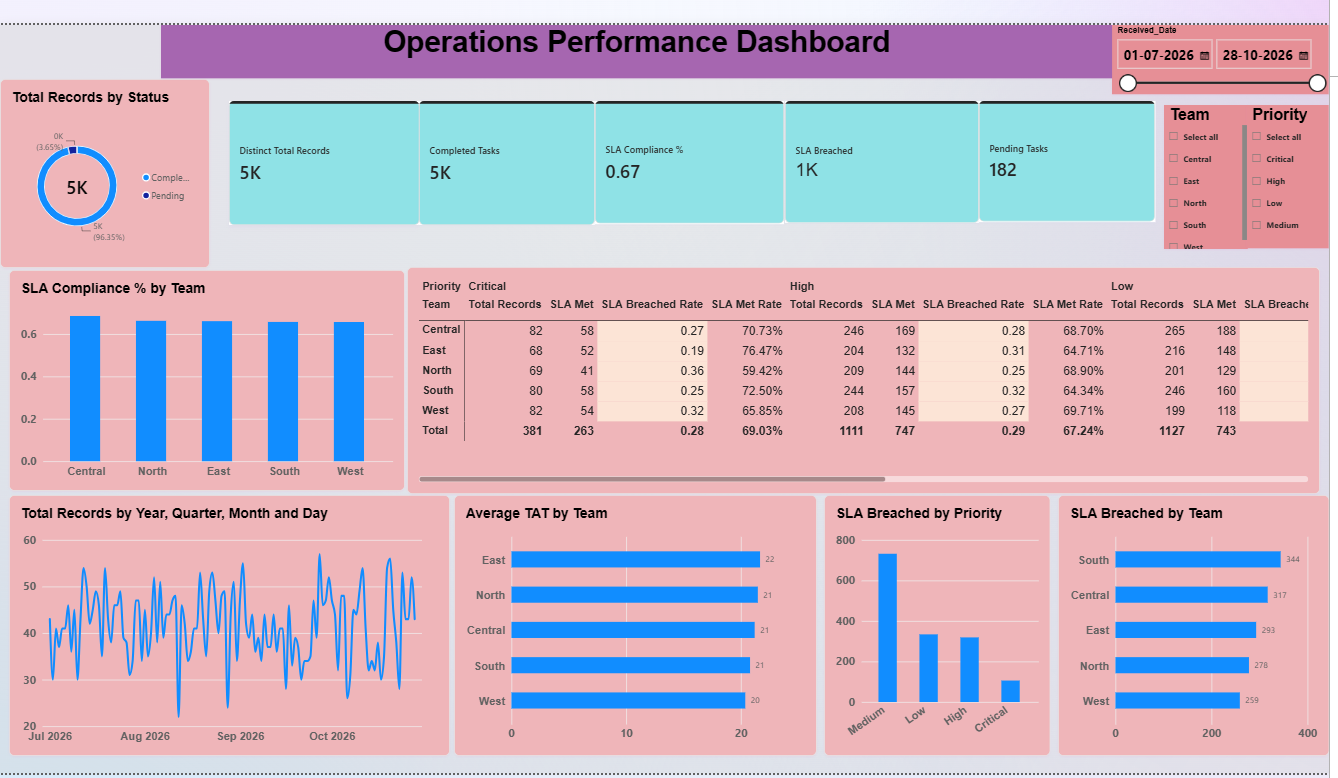

The page's visual inventory and layout, read from the dashboard file:
{"tool":"powerbi","page":{"name":"Page 1","canvas":[1920,1080],"ordinal":0},"visuals":[{"type":"cardVisual","fields":{"Data":["vw_Employee_Performance.Distinct Total Records"]},"box":[330.4,109.2,275.1,179],"z":0},{"type":"cardVisual","fields":{"Data":["Operations.Completed tasks"]},"box":[605.5,109.2,254.3,179.1],"z":1000},{"type":"cardVisual","fields":{"Data":["Operations.SLA Compliance %"]},"box":[860.3,109.2,273,177.7],"z":2000},{"type":"cardVisual","fields":{"Data":["Operations.SLA Breached"]},"box":[1133.9,109.2,280.3,176.3],"z":3000},{"type":"clusteredColumnChart","title":"SLA Compliance % by Team","fields":{"Category":["Operations.Team"],"Y":["Operations.SLA Compliance %"]},"box":[13,354,572.1,319.3],"z":4000},{"type":"barChart","fields":{"Category":["Operations.Team"],"Y":["Operations.SLA Breached"]},"box":[1528.5,679,391.5,377.1],"z":5000},{"type":"donutChart","fields":{"Category":["Operations.Status"],"Y":["Operations.Total Records"]},"box":[0,78,303.4,273],"z":6000},{"type":"lineChart","fields":{"Category":["Operations.Received_Date.Variation.Date Hierarchy.Year","Operations.Received_Date.Variation.Date Hierarchy.Quarter","Operations.Received_Date.Variation.Date Hierarchy.Month","Operations.Received_Date.Variation.Date Hierarchy.Day"],"Y":["Operations.Total Records"]},"box":[13,679,637.1,377.1],"z":7000},{"type":"clusteredBarChart","fields":{"Category":["Operations.Team"],"Y":["vw_Employee_Performance.Average TAT"]},"box":[655.9,679,524.4,377.1],"z":8000},{"type":"slicer","fields":{"Values":["Operations.Team"]},"box":[1681.3,115,121.4,208],"z":9000},{"type":"slicer","fields":{"Values":["Operations.Priority"]},"box":[1802.1,115,118.5,206.6],"z":10000},{"type":"slicer","fields":{"Values":["Operations.Received_Date"]},"box":[1606.5,0,313.5,99.7],"z":11000},{"type":"textbox","box":[232,0,1374.3,77.3],"z":12000},{"type":"clusteredColumnChart","fields":{"Category":["Operations.Priority"],"Y":["Operations.SLA Breached"]},"box":[1190.4,679,326.5,377.1],"z":13000},{"type":"pivotTable","fields":{"Columns":["Operations.Priority"],"Rows":["Operations.Team"],"Values":["Operations.Total Records","Operations.SLA Met","Operations.SLA Breached Rate","Operations.SLA Met Rate"]},"box":[588,349.6,1319,327.9],"z":14000},{"type":"cardVisual","fields":{"Data":["Operations.Pending Tasks"]},"box":[1414.9,109.2,254.7,174.7],"z":14001}]}

Visuals, with their boxes on the page's 1920x1080 design canvas (x1, y1, x2, y2). These are canvas units, not pixel positions in the 1338x778 screenshot, which may show the page scaled, cropped or inside an application window:
cardVisual - vw_Employee_Performance.Distinct Total Records: l=330, t=109, r=606, b=288
cardVisual - Operations.Completed tasks: l=606, t=109, r=860, b=288
cardVisual - Operations.SLA Compliance %: l=860, t=109, r=1133, b=287
cardVisual - Operations.SLA Breached: l=1134, t=109, r=1414, b=286
"SLA Compliance % by Team" clusteredColumnChart: l=13, t=354, r=585, b=673
barChart - Operations.Team x Operations.SLA Breached: l=1528, t=679, r=1920, b=1056
donutChart - Operations.Status x Operations.Total Records: l=0, t=78, r=303, b=351
lineChart - Operations.Received_Date.Variation.Date Hierarchy.Year x Operations.Received_Date.Variation.Date Hierarchy.Quarter: l=13, t=679, r=650, b=1056
clusteredBarChart - Operations.Team x vw_Employee_Performance.Average TAT: l=656, t=679, r=1180, b=1056
slicer - Operations.Team: l=1681, t=115, r=1803, b=323
slicer - Operations.Priority: l=1802, t=115, r=1921, b=322
slicer - Operations.Received_Date: l=1606, t=0, r=1920, b=100
textbox: l=232, t=0, r=1606, b=77
clusteredColumnChart - Operations.Priority x Operations.SLA Breached: l=1190, t=679, r=1517, b=1056
pivotTable - Operations.Priority x Operations.Team: l=588, t=350, r=1907, b=678
cardVisual - Operations.Pending Tasks: l=1415, t=109, r=1670, b=284
